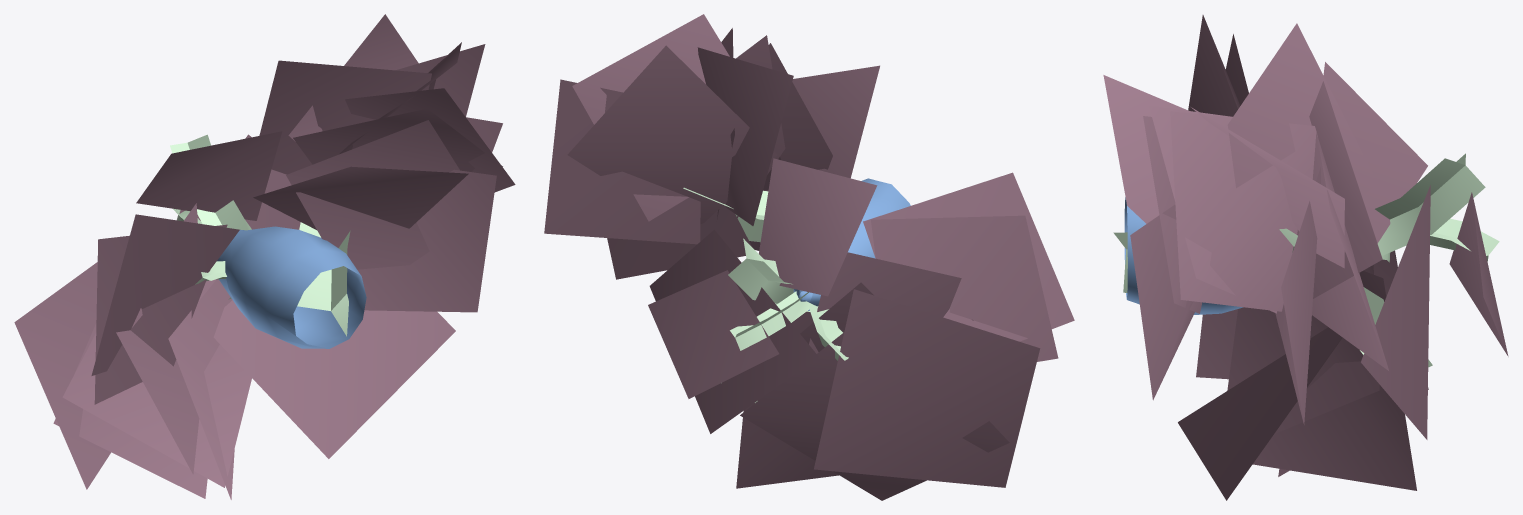
File: Tree_0019.FBX
3 renders of one model, left to right at view 1: azimuth 30°, elevation 25°; view 2: azimuth 150°, elevation 25°; view 3: azimuth 270°, elevation 25°, orthographic. The views are drawn at different scales.
Parts seen in each view (by area): view 1: Tree_0019_LOD0; view 2: Tree_0019_LOD0; view 3: Tree_0019_LOD0.
Part boxes in pixels (<box>): Tree_0019_LOD0: <box>14,14,515,499</box>; Tree_0019_LOD0: <box>544,14,1074,500</box>; Tree_0019_LOD0: <box>1103,15,1508,500</box>.
Size of the model in its own units: 173 by 105 by 146.
